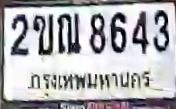2: (10, 13, 28, 55)
3: (152, 9, 168, 51)
4: (131, 10, 148, 53)
6: (109, 11, 126, 52)
8: (88, 12, 105, 53)
A02: (32, 13, 53, 55)
A19: (57, 12, 80, 54)
BKK: (27, 68, 156, 96)
